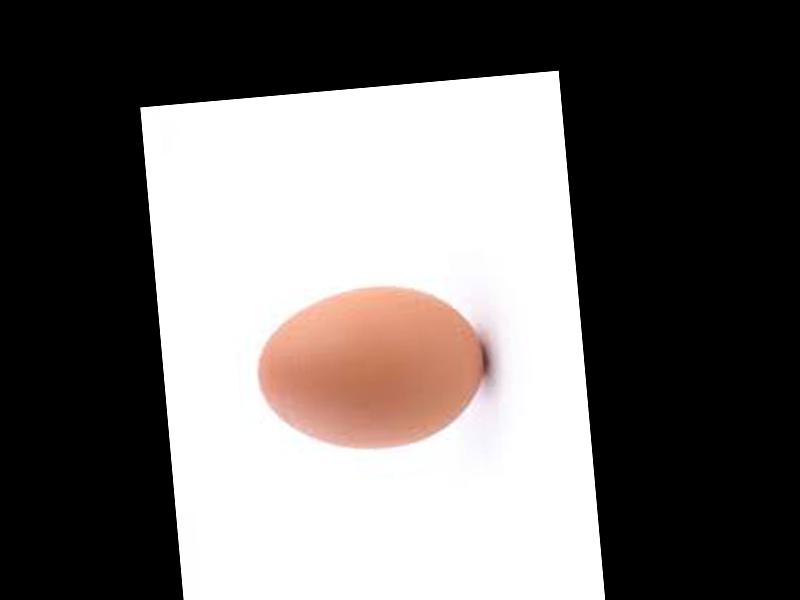Eggs: (249, 280, 490, 460)
